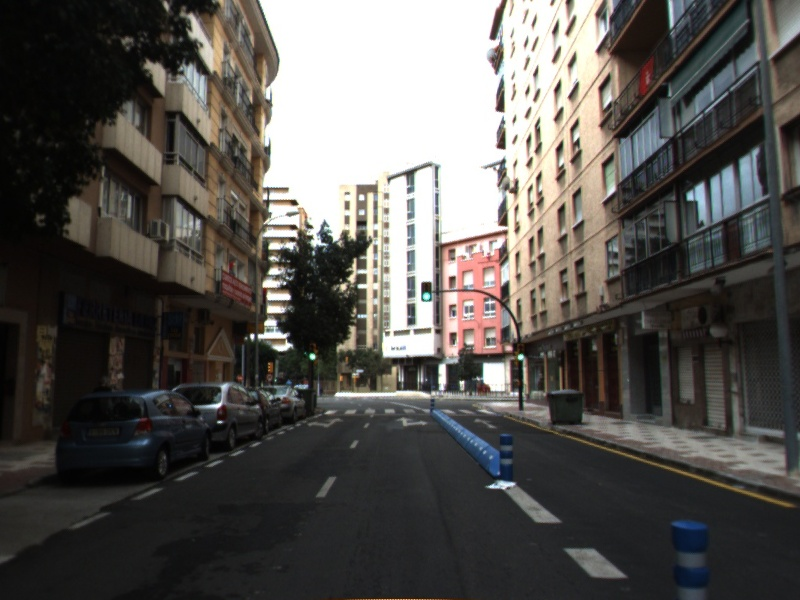STRAIGHT: (472, 416, 498, 430)
STRAIGHT_LEFT: (305, 415, 345, 429)
STRAIGHT_RIGHT: (394, 415, 430, 428)
